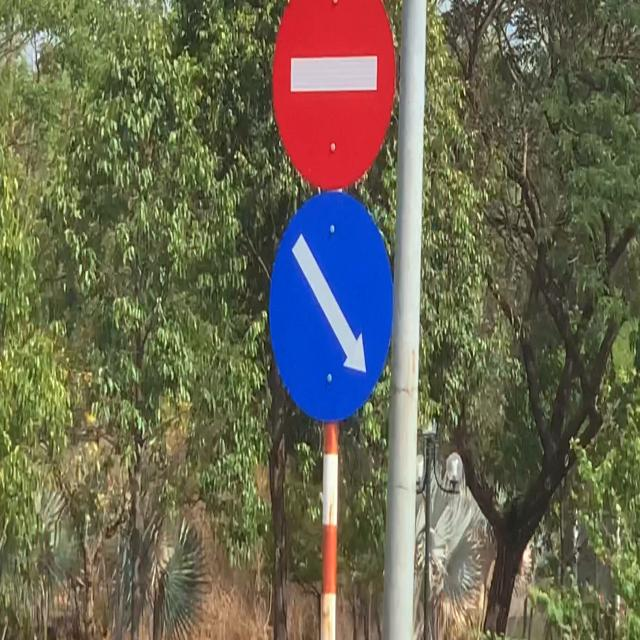Cam nguoc chieu: (268, 0, 398, 192)
Hieu lenh: (263, 186, 397, 438)
